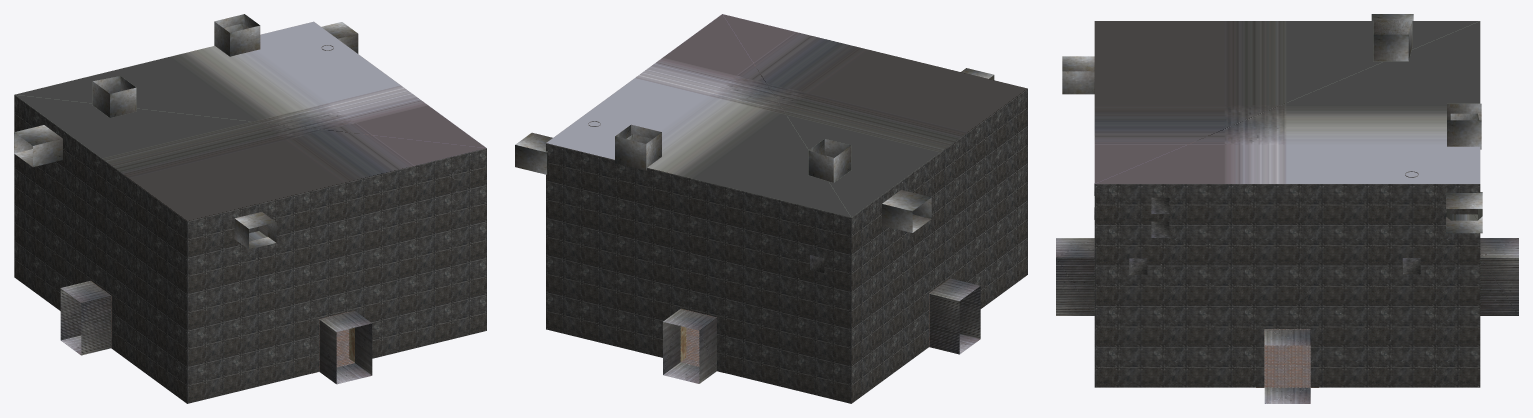
File: room_4.fbx
The picture shows the model from 3 angles, left to right: view 1: azimuth 30°, elevation 25°; view 2: azimuth 150°, elevation 25°; view 3: azimuth 270°, elevation 25°; orthographic projection. The views are drawn at different scales.
Visible parts, largest first — view 1: Plane.002, Plane.004, Plane.001, Plane.003, Plane.007, Plane; view 2: Plane.002, Plane.004, Plane.001, Plane.003, Plane.006, Plane; view 3: Plane.002, Plane.004, Plane.001, Plane.006, Plane.007, Plane, Plane.005.
Boxes of the visible parts, x1,y1,x2,y2 form: Plane.002: (14, 95, 486, 403); Plane.004: (15, 21, 486, 221); Plane.001: (14, 14, 358, 249); Plane.003: (60, 281, 110, 355); Plane.007: (319, 311, 372, 384); Plane: (101, 288, 354, 371); Plane.002: (546, 88, 1027, 403); Plane.004: (546, 14, 1027, 217); Plane.001: (515, 68, 994, 232); Plane.003: (929, 278, 980, 354); Plane.006: (663, 309, 716, 383); Plane: (681, 286, 939, 366); Plane.002: (1094, 184, 1480, 387); Plane.004: (1094, 21, 1480, 183); Plane.001: (1062, 14, 1482, 233); Plane.006: (1480, 238, 1518, 315); Plane.007: (1056, 238, 1094, 315); Plane: (1264, 329, 1310, 387); Plane.005: (1264, 329, 1310, 403).
Bounding box in the file's own units: 1201 × 661 × 1200.
Materials: 15 (15 with a texture image).
